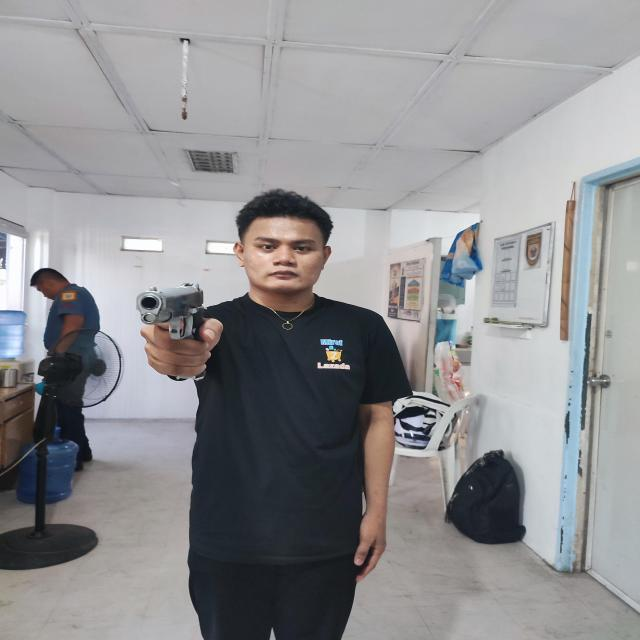pistol: (137, 282, 206, 340)
